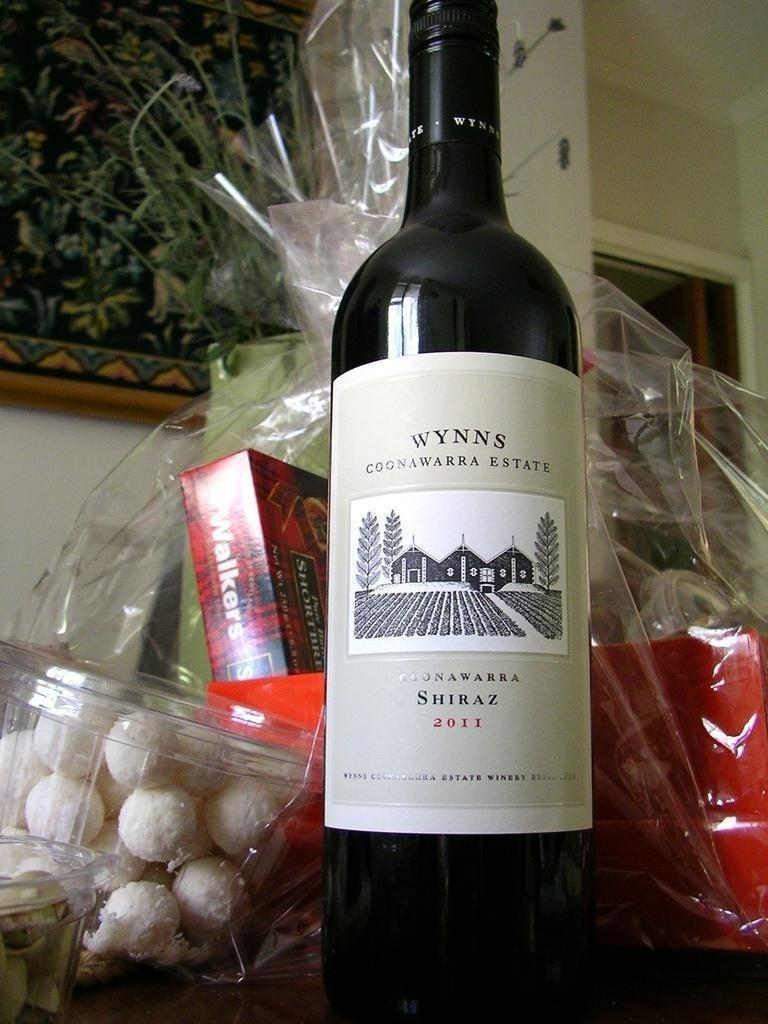bottle-glass: (324, 0, 595, 1023)
